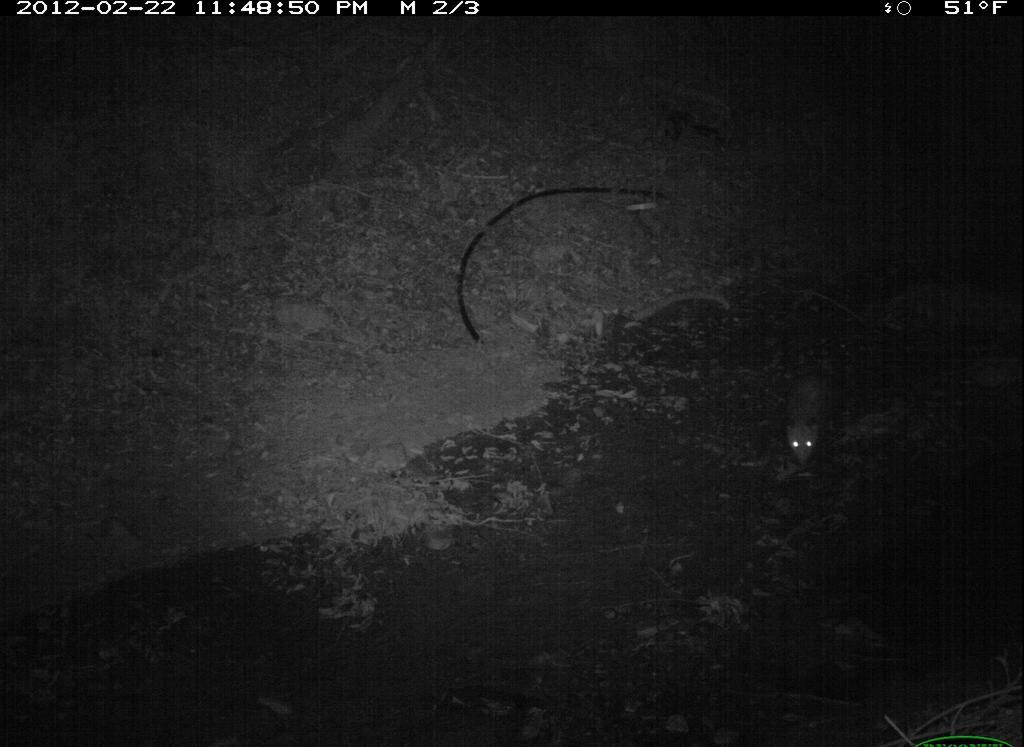opossum: (765, 344, 850, 474)
